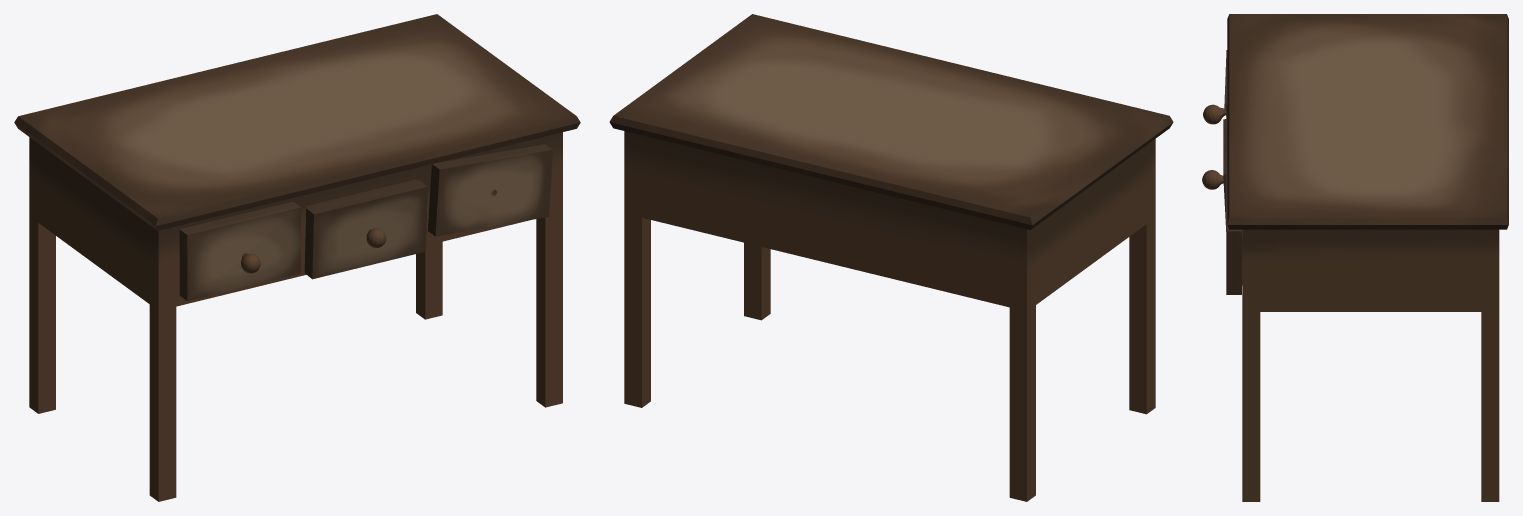
The model's file is MesaCajonera.fbx.
3 renders of one model, left to right at view 1: azimuth 30°, elevation 25°; view 2: azimuth 150°, elevation 25°; view 3: azimuth 270°, elevation 25°, orthographic.
Visible parts, largest first — view 1: Mesa, Cajon3, Cajon1, Cajon2; view 2: Mesa; view 3: Mesa, Cajon2, Cajon3, Cajon1.
Part boxes in pixels (x1,y1,x2,y2): Mesa: [14, 14, 580, 501]; Cajon3: [304, 179, 427, 279]; Cajon1: [179, 201, 300, 300]; Cajon2: [427, 144, 552, 236]; Mesa: [609, 14, 1173, 501]; Mesa: [1227, 14, 1508, 501]; Cajon2: [1226, 168, 1242, 294]; Cajon3: [1202, 119, 1227, 231]; Cajon1: [1203, 50, 1227, 124].
Size of the model in its own units: 475 by 310 by 299.
